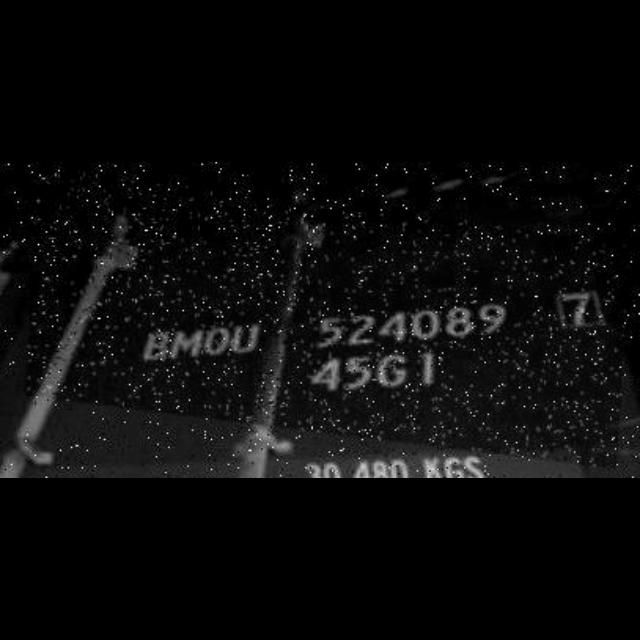0: (412, 304, 440, 344), (388, 452, 414, 478), (322, 456, 343, 478)
1: (418, 346, 438, 389)
2: (344, 309, 376, 351)
3: (304, 452, 322, 478)
4: (314, 349, 344, 398), (381, 306, 411, 346), (354, 456, 371, 478)
5: (342, 348, 372, 398), (314, 312, 342, 350)
7: (558, 286, 596, 334)
8: (443, 300, 471, 340), (370, 452, 388, 478)
9: (474, 298, 510, 340)
b: (140, 326, 172, 366)
g: (374, 348, 410, 397), (444, 442, 466, 478)
k: (423, 446, 441, 478)
m: (171, 324, 205, 362)
o: (200, 320, 232, 360)
s: (464, 448, 486, 478)
u: (228, 317, 264, 359)
